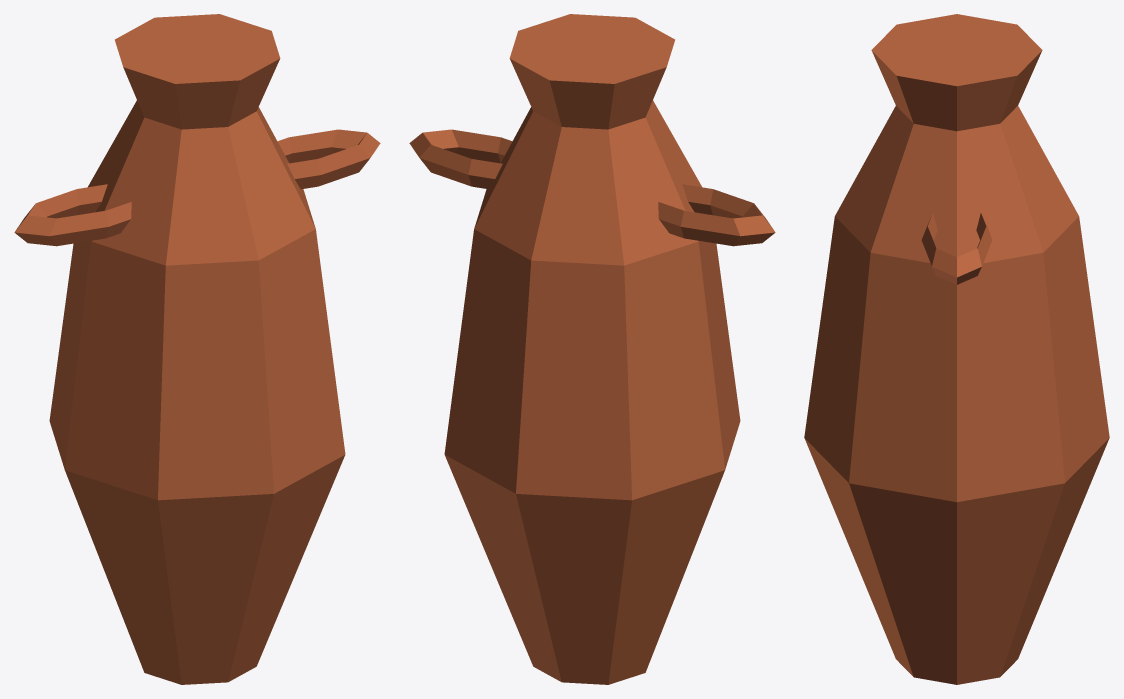
Rendered from amphora.fbx.
The picture shows the model from 3 angles, left to right: view 1: azimuth 30°, elevation 25°; view 2: azimuth 150°, elevation 25°; view 3: azimuth 270°, elevation 25°; orthographic projection.
Parts seen in each view (by area): view 1: amphora; view 2: amphora; view 3: amphora.
Boxes of the visible parts, left/top/right/bottom form: amphora: left=14, top=14, right=380, bottom=684; amphora: left=409, top=14, right=775, bottom=684; amphora: left=804, top=14, right=1109, bottom=684.
Bounding box in the file's own units: 0.69 × 1.1 × 0.5.
